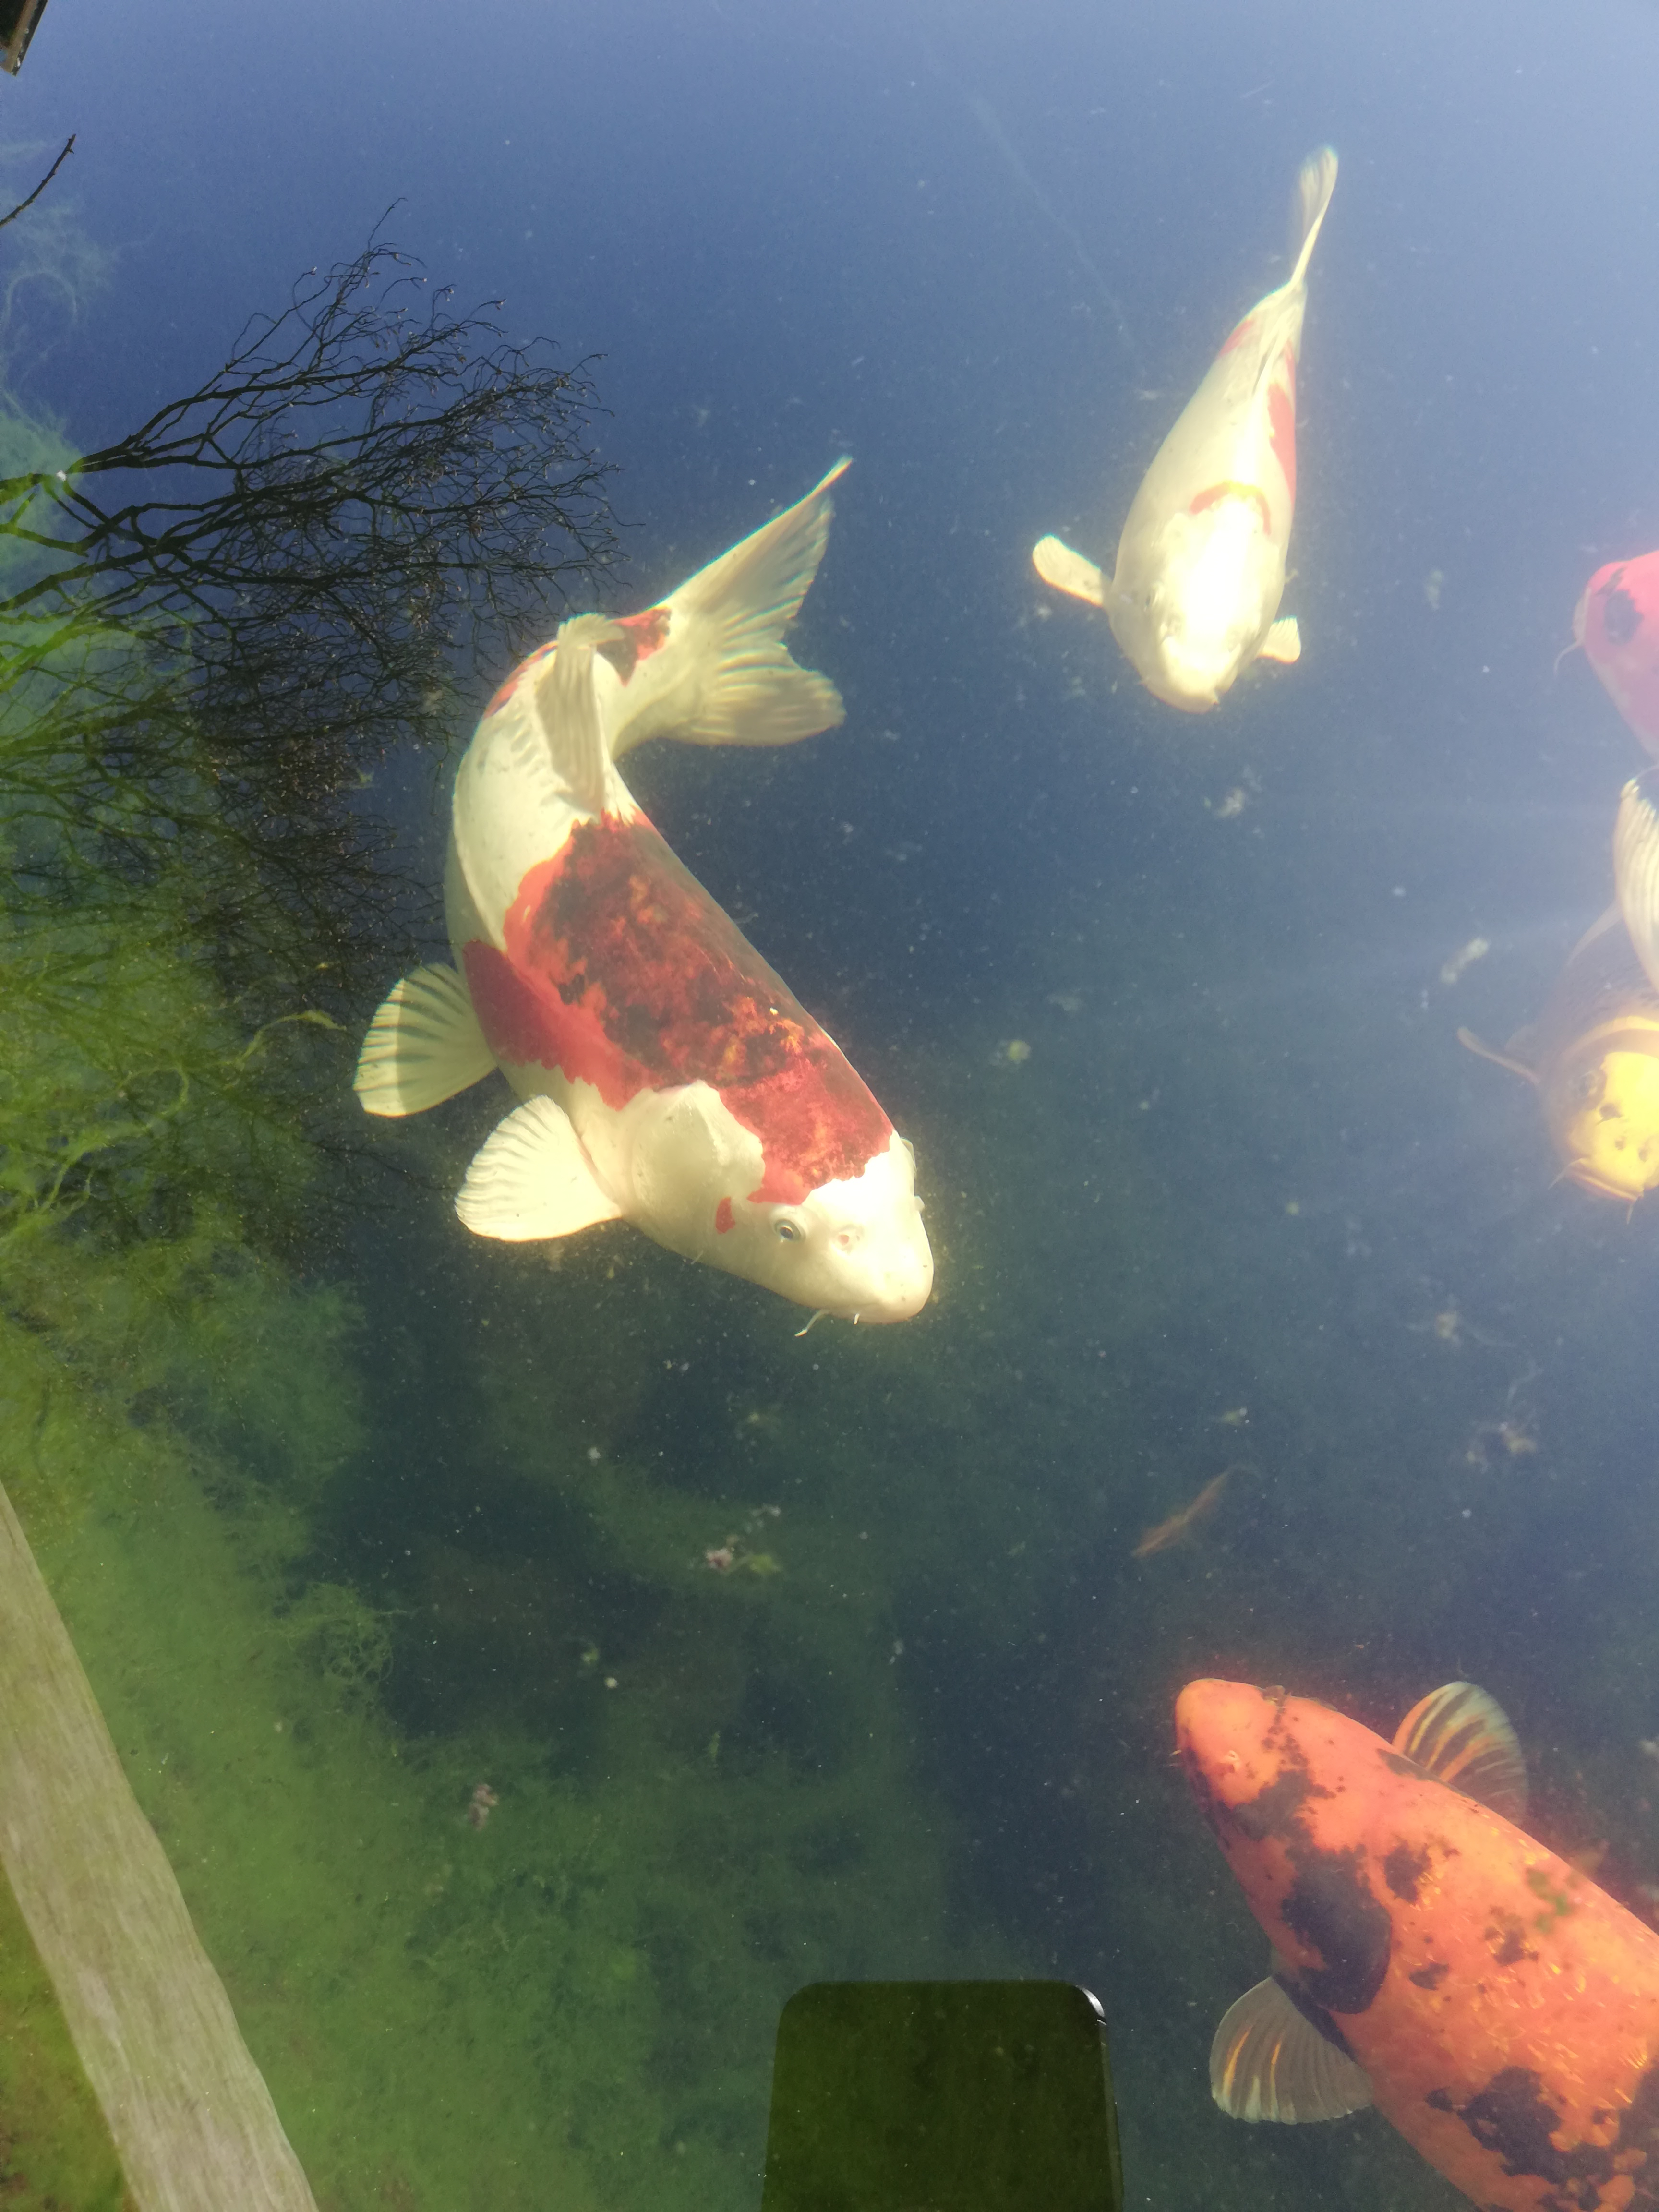Wallie: (288, 394, 988, 1421)
